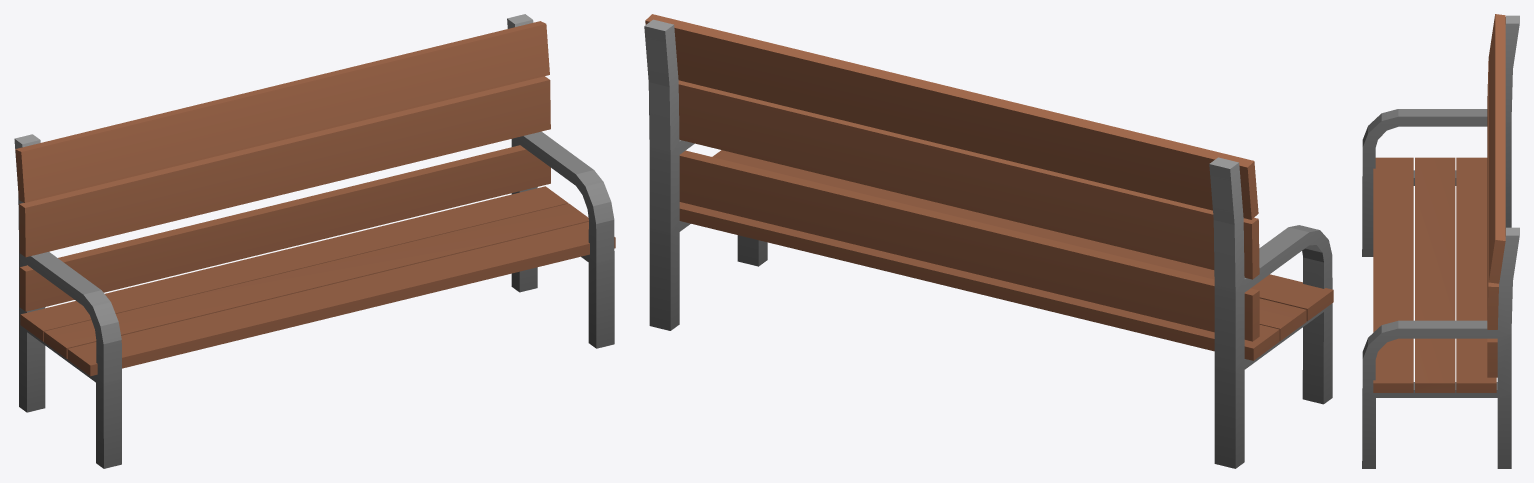
File: bench.fbx
3 views of the same model, side by side, from view 1: azimuth 30°, elevation 25°; view 2: azimuth 150°, elevation 25°; view 3: azimuth 270°, elevation 25° (orthographic). The views are drawn at different scales.
Visible parts, largest first — view 1: bench; view 2: bench; view 3: bench.
Part boxes in pixels (x1,y1,x2,y2): bench: [14, 14, 615, 468]; bench: [644, 14, 1333, 468]; bench: [1362, 14, 1519, 468].
Bounding box in the file's own units: 219 × 105 × 64.47.
